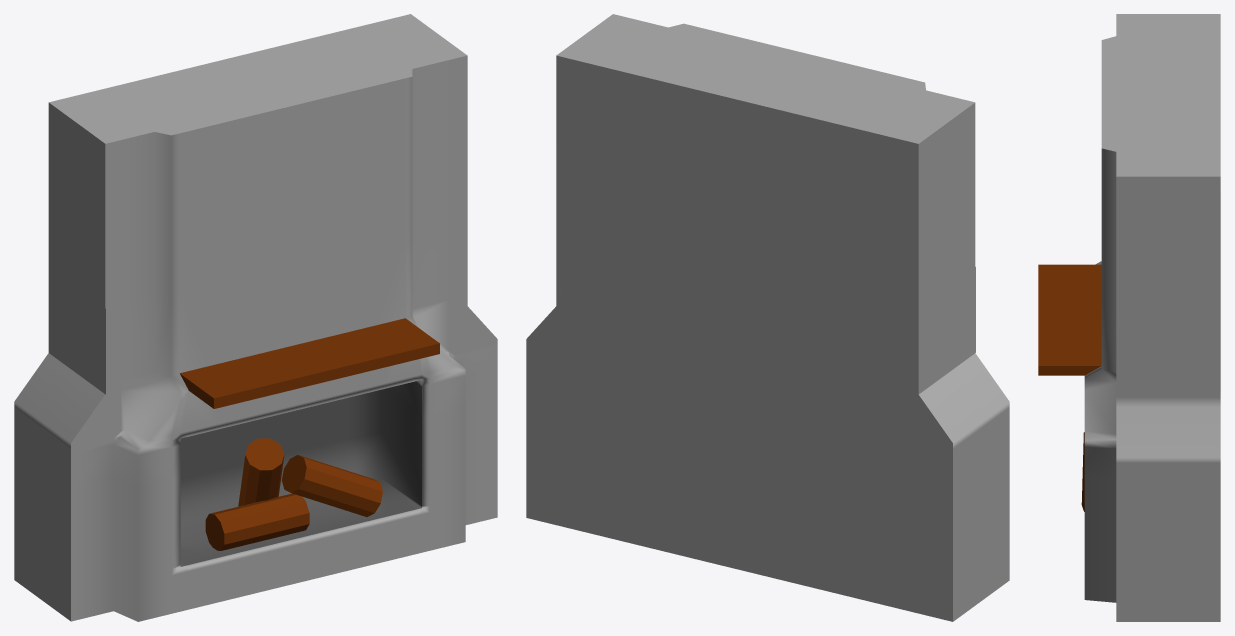
Rendered from FirePlace.fbx.
3 renders of one model, left to right at view 1: azimuth 30°, elevation 25°; view 2: azimuth 150°, elevation 25°; view 3: azimuth 270°, elevation 25°, orthographic. The views are drawn at different scales.
Parts seen in each view (by area): view 1: pCube1, pCylinder1, pCylinder2, pCylinder3; view 2: pCube1; view 3: pCube1.
Part boxes in pixels (left/top/right/bottom): pCube1: left=14, top=14, right=497, bottom=621; pCylinder1: left=205, top=493, right=309, bottom=550; pCylinder2: left=282, top=455, right=382, bottom=516; pCylinder3: left=238, top=438, right=284, bottom=506; pCube1: left=526, top=14, right=1009, bottom=621; pCube1: left=1038, top=14, right=1220, bottom=621.
Bounding box in the file's own units: 10 × 10.52 × 4.02.
